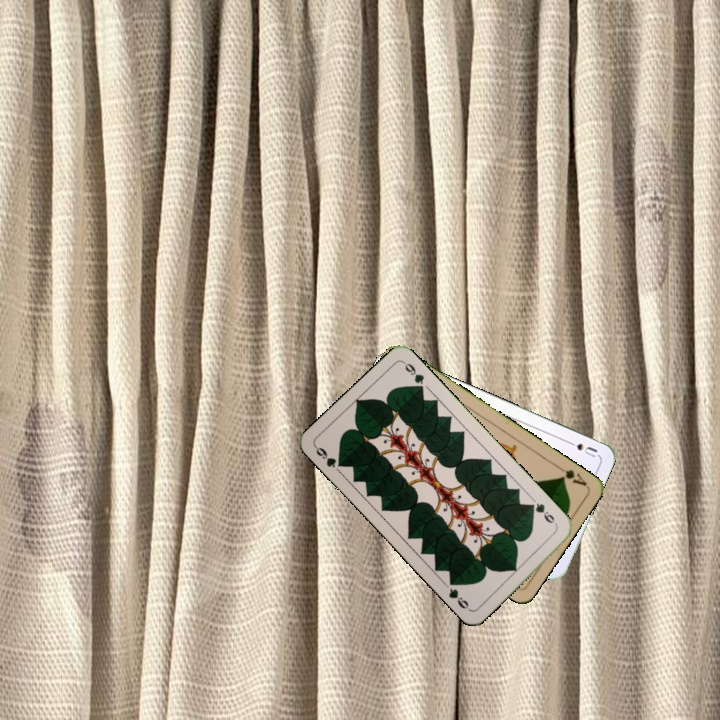G9: (525, 499, 560, 529), (311, 442, 347, 471)
GA: (553, 461, 589, 488)
SU: (562, 436, 600, 460)
